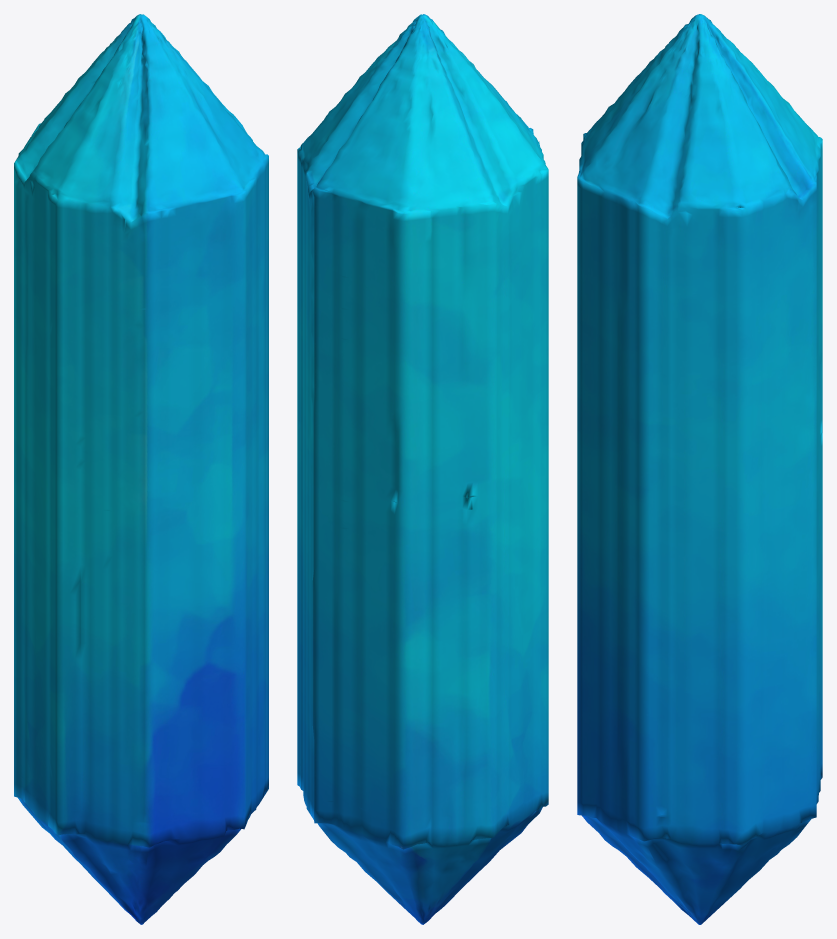
Rendered from Crystal.fbx.
3 views of the same model, side by side, from view 1: azimuth 30°, elevation 25°; view 2: azimuth 150°, elevation 25°; view 3: azimuth 270°, elevation 25° (orthographic).
Parts seen in each view (by area): view 1: tripo_node_a43c6fd3; view 2: tripo_node_a43c6fd3; view 3: tripo_node_a43c6fd3.
Boxes of the visible parts, x1=… form: tripo_node_a43c6fd3: x1=14, y1=14, x2=268, y2=924; tripo_node_a43c6fd3: x1=297, y1=14, x2=548, y2=924; tripo_node_a43c6fd3: x1=577, y1=14, x2=822, y2=924.
Bounding box in the file's own units: 0.2354 × 0.9781 × 0.2393.
